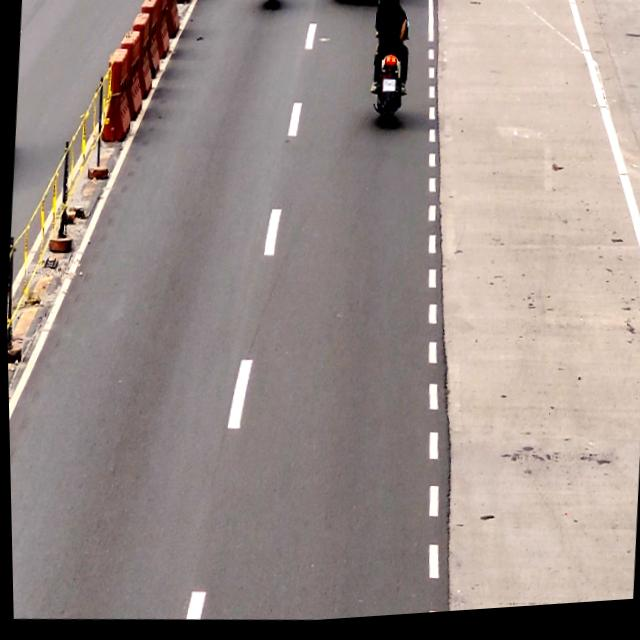License-Plate: (380, 81, 397, 98)
Motorcycle: (368, 0, 414, 128)
